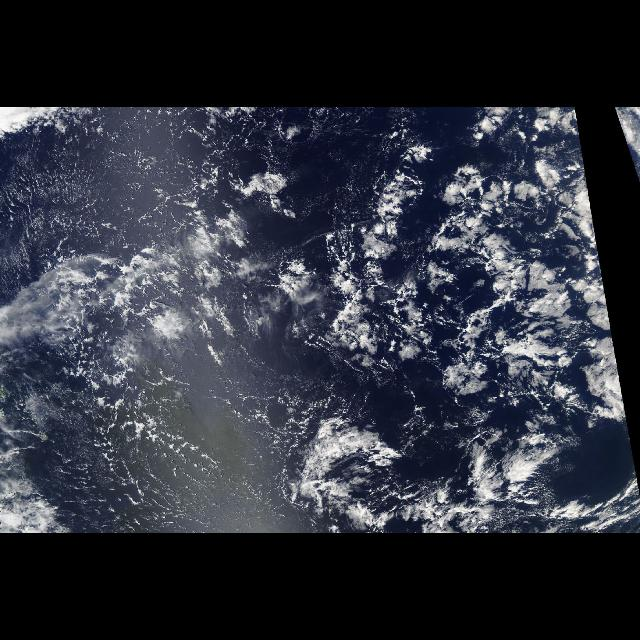Flower: (280, 142, 612, 524)
Gravel: (55, 299, 234, 519)
Sugar: (6, 124, 194, 254)
